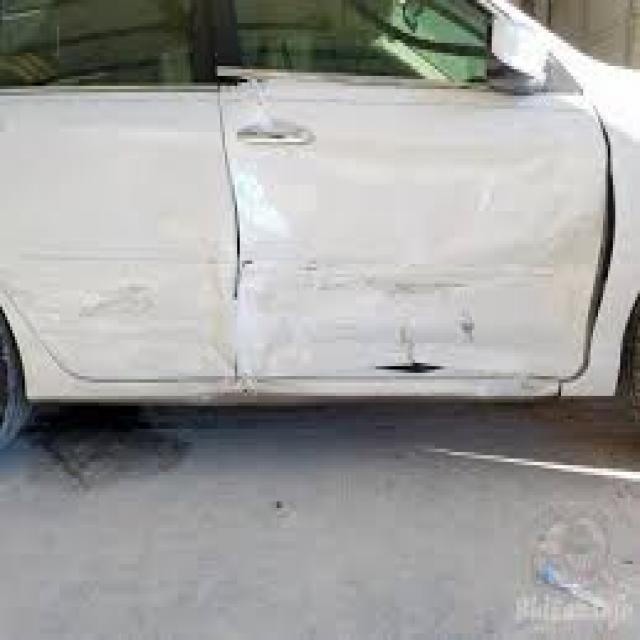damaged-door: (209, 0, 615, 402)
